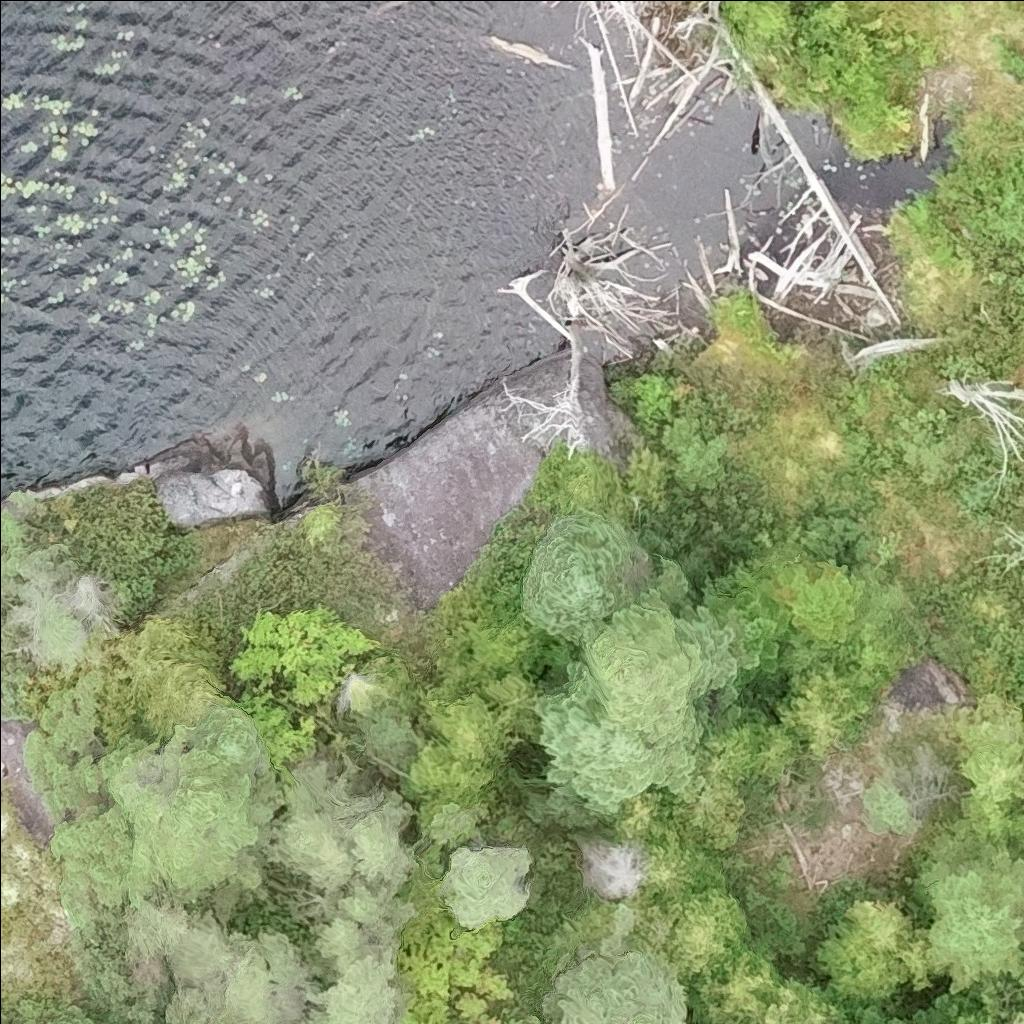crown: (538, 587, 738, 812), (106, 739, 274, 906), (518, 510, 634, 649), (922, 842, 1023, 989), (540, 951, 688, 1023), (218, 928, 324, 1023), (410, 694, 510, 792), (270, 782, 355, 896), (438, 847, 533, 928), (346, 790, 417, 892), (171, 708, 261, 785), (303, 953, 400, 1023), (317, 913, 401, 975), (337, 877, 417, 928), (1022, 972, 1023, 976)
